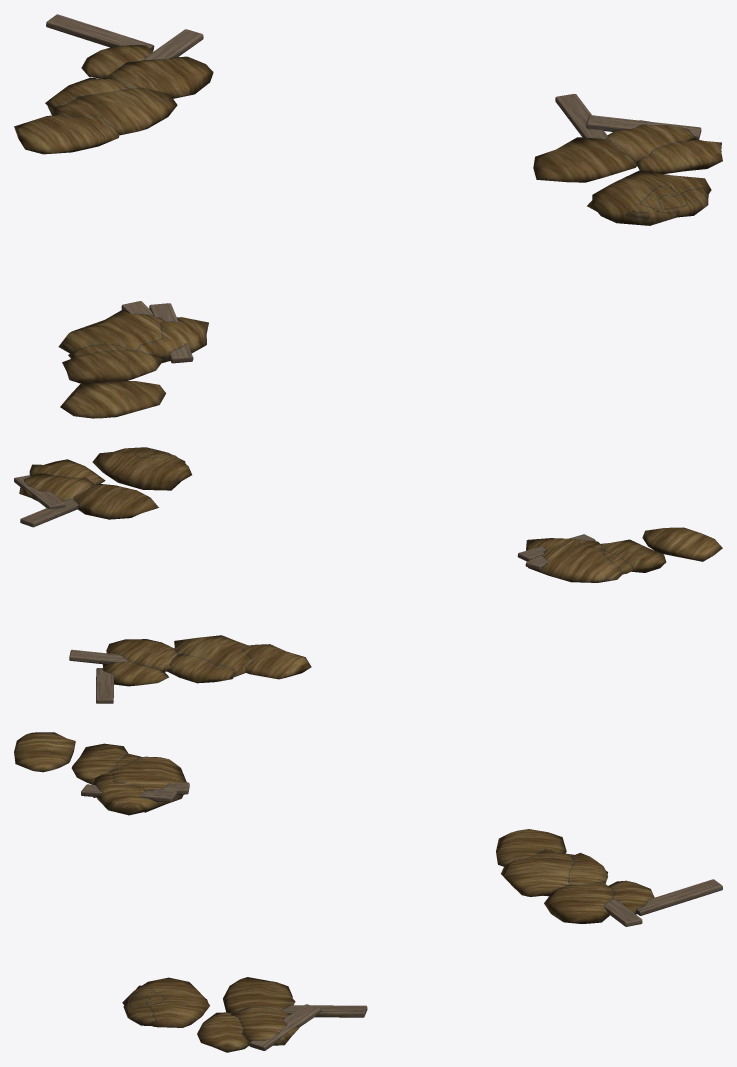
The model's file is home_debris.glb.
The picture shows the model from 3 angles, top to bottom: view 1: azimuth 30°, elevation 25°; view 2: azimuth 150°, elevation 25°; view 3: azimuth 270°, elevation 25°; orthographic projection. The views are drawn at different scales.
Parts seen in each view (by area): view 1: home_debris; view 2: home_debris; view 3: home_debris.
Part boxes in pixels (bbox=[...]): home_debris: bbox=[14, 14, 722, 418]; home_debris: bbox=[14, 447, 722, 703]; home_debris: bbox=[14, 732, 722, 1052].
Bounding box in the file's own units: 5.46 × 0.1687 × 5.16.
Materials: 1 (1 with a texture image).
